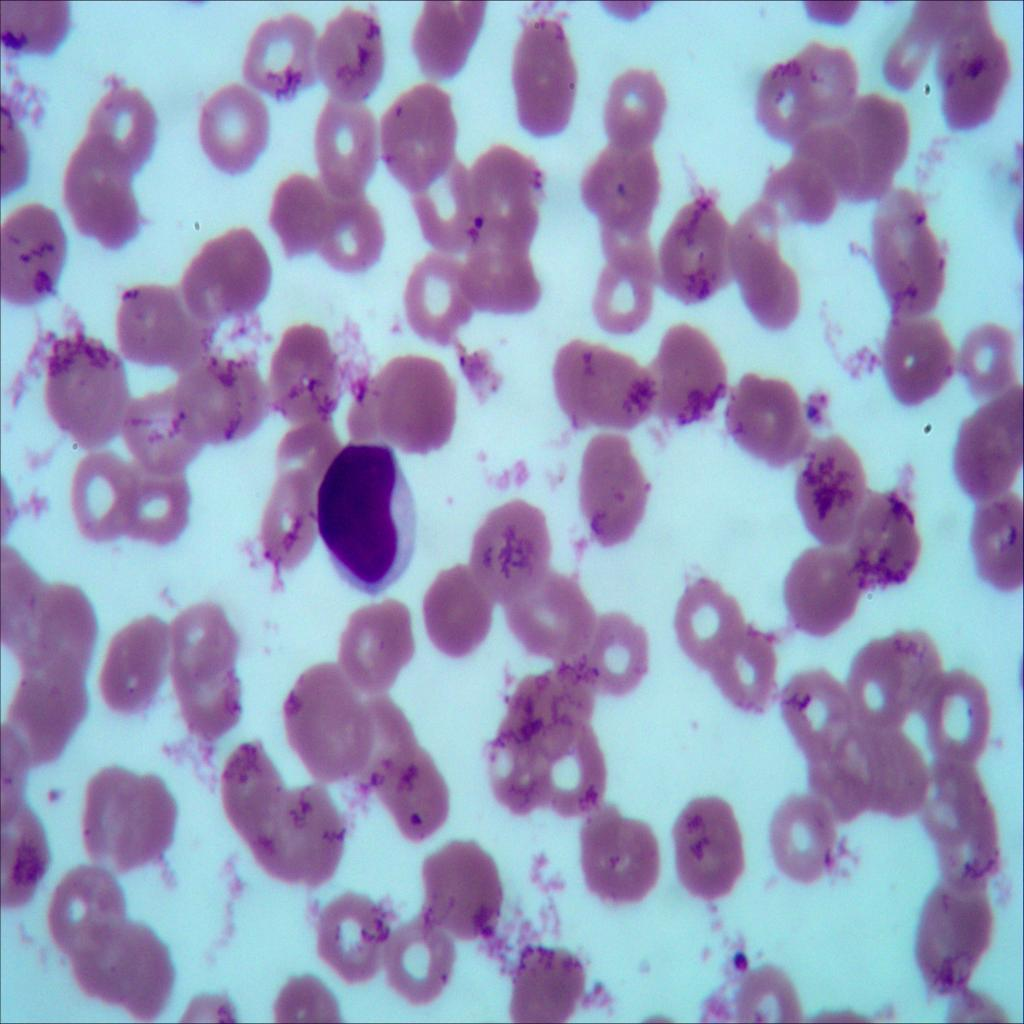Limfoblast: (307, 416, 423, 596)
